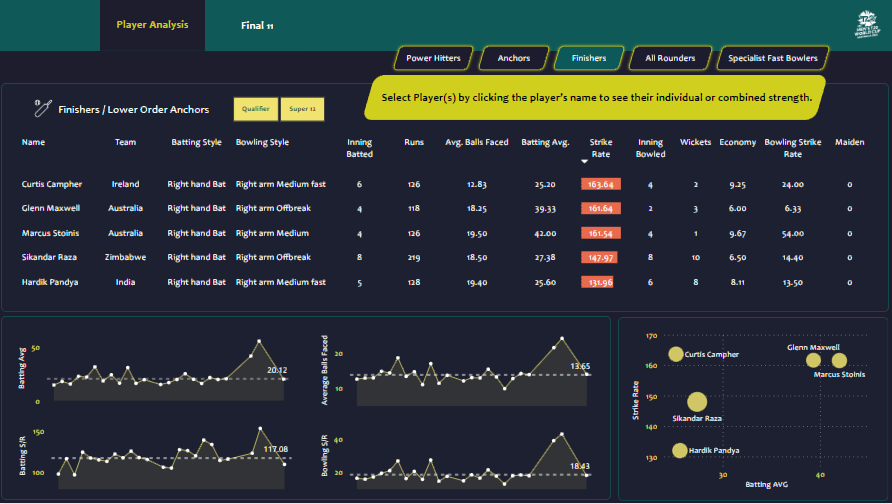

Layout of this report page (visuals, bound fields, positions):
{"tool":"powerbi","page":{"name":"New All Rounder / Lower Middle Order","canvas":[1280,720],"ordinal":3},"visuals":[{"type":"shape","box":[0,73.7,1280.2,646.3],"z":0},{"type":"shape","box":[886.8,454.5,386.4,262.7],"z":1000},{"type":"scatterChart","fields":{"Category":["player_profile.name"],"Size":["key measures.Total Runs"],"X":["key measures.Bowling Strike Rate"],"Y":["key measures.Bowling Economy"]},"box":[901.4,465.7,355.7,240],"z":2000},{"type":"image","box":[25,139,44.5,36.1],"z":3000},{"type":"shape","box":[5.7,120,1268.6,327.1],"z":4000},{"type":"tableEx","fields":{"Values":["player_profile.name","player_profile.team","player_profile.batting_style","player_profile.bowling_style","key measures.Total Inning Batted","key measures.Total Runs","key measures.Batting Avg","key measures.Strike Rate","key measures.Total Inning Bowled","key measures.Balls Bowled","key measures.Wickets","key measures.Bowling Economy"]},"box":[23.6,182.1,1234.3,250.2],"z":5000},{"type":"shape","box":[522.1,108.6,665.7,64.3],"z":6000},{"type":"card","fields":{"Values":["key measures.Strike Rate"]},"box":[854.9,106.3,120,64.3],"z":7000},{"type":"card","fields":{"Values":["key measures.Boundary %"]},"box":[1042.1,106.3,110,64.3],"z":8000},{"type":"card","fields":{"Values":["key measures.Average Balls Faced"]},"box":[927.8,106.3,155.7,65.7],"z":9000},{"type":"card","fields":{"Values":["key measures.Batting Avg"]},"box":[774.9,106.3,118.6,64.3],"z":10000},{"type":"slicer","fields":{"Values":["match_summary.stage"]},"box":[311.4,132.9,181.4,48.6],"z":11000},{"type":"shape","title":"scasfas","box":[65.4,132.5,231.5,48.7],"z":12000},{"type":"shape","box":[562.1,120,187.1,41.4],"z":13000},{"type":"shape","box":[5.6,453.1,871.5,262.7],"z":14000},{"type":"actionButton","box":[562.1,62.5,124.3,42.9],"z":15000},{"type":"actionButton","box":[682.4,62.9,111.4,42.9],"z":16000},{"type":"actionButton","box":[789.9,62.9,111.4,42.9],"z":17000},{"type":"actionButton","box":[897.4,62.9,130,42.9],"z":18000},{"type":"actionButton","box":[1023.5,62.9,171.4,42.9],"z":19000},{"type":"areaChart","fields":{"Y":["key measures.Batting Avg"],"Category":["match_summary.Date.Variation.Date Hierarchy.Year","match_summary.Date.Variation.Date Hierarchy.Quarter","match_summary.Date.Variation.Date Hierarchy.Month","match_summary.Date.Variation.Date Hierarchy.Day"]},"box":[23.6,467,400.3,119.5],"z":20000},{"type":"areaChart","fields":{"Category":["match_summary.Date.Variation.Date Hierarchy.Year","match_summary.Date.Variation.Date Hierarchy.Quarter","match_summary.Date.Variation.Date Hierarchy.Month","match_summary.Date.Variation.Date Hierarchy.Day"],"Y":["key measures.Bowling Economy"]},"box":[457.3,465.6,400.3,120.9],"z":21000},{"type":"areaChart","fields":{"Y":["key measures.Strike Rate"],"Category":["match_summary.Date.Variation.Date Hierarchy.Year","match_summary.Date.Variation.Date Hierarchy.Quarter","match_summary.Date.Variation.Date Hierarchy.Month","match_summary.Date.Variation.Date Hierarchy.Day"]},"box":[25,592.1,400,114],"z":22000},{"type":"areaChart","fields":{"Category":["match_summary.Date.Variation.Date Hierarchy.Year","match_summary.Date.Variation.Date Hierarchy.Quarter","match_summary.Date.Variation.Date Hierarchy.Month","match_summary.Date.Variation.Date Hierarchy.Day"],"Y":["key measures.Bowling Strike Rate"]},"box":[457.3,592.1,400,114],"z":23000},{"type":"actionButton","box":[147.3,0,150.1,73.7],"z":24000},{"type":"actionButton","box":[297.5,1.4,150,73],"z":25000},{"type":"shape","box":[493.4,119.5,728.3,40.3],"z":26000},{"type":"image","box":[1220.4,5.6,47.3,59.8],"z":27000}]}

Visuals, with their boxes in screenshot pixels (x1, y1, x2, y2), scaled from the page's 1280x720 canvas onto the 892x504 screenshot:
shape: x1=0, y1=52, x2=891, y2=503
shape: x1=618, y1=318, x2=887, y2=502
scatterChart - player_profile.name x key measures.Total Runs: x1=628, y1=326, x2=876, y2=494
image: x1=17, y1=97, x2=48, y2=123
shape: x1=4, y1=84, x2=888, y2=313
tableEx - player_profile.name x player_profile.team: x1=16, y1=127, x2=877, y2=303
shape: x1=364, y1=76, x2=828, y2=121
card - key measures.Strike Rate: x1=596, y1=74, x2=679, y2=119
card - key measures.Boundary %: x1=726, y1=74, x2=803, y2=119
card - key measures.Average Balls Faced: x1=647, y1=74, x2=755, y2=120
card - key measures.Batting Avg: x1=540, y1=74, x2=623, y2=119
slicer - match_summary.stage: x1=217, y1=93, x2=343, y2=127
"scasfas" shape: x1=46, y1=93, x2=207, y2=127
shape: x1=392, y1=84, x2=522, y2=113
shape: x1=4, y1=317, x2=611, y2=501
actionButton: x1=392, y1=44, x2=478, y2=74
actionButton: x1=476, y1=44, x2=553, y2=74
actionButton: x1=550, y1=44, x2=628, y2=74
actionButton: x1=625, y1=44, x2=716, y2=74
actionButton: x1=713, y1=44, x2=833, y2=74
areaChart - key measures.Batting Avg x match_summary.Date.Variation.Date Hierarchy.Year: x1=16, y1=327, x2=295, y2=411
areaChart - match_summary.Date.Variation.Date Hierarchy.Year x match_summary.Date.Variation.Date Hierarchy.Quarter: x1=319, y1=326, x2=598, y2=411
areaChart - key measures.Strike Rate x match_summary.Date.Variation.Date Hierarchy.Year: x1=17, y1=414, x2=296, y2=494
areaChart - match_summary.Date.Variation.Date Hierarchy.Year x match_summary.Date.Variation.Date Hierarchy.Quarter: x1=319, y1=414, x2=597, y2=494
actionButton: x1=103, y1=0, x2=207, y2=52
actionButton: x1=207, y1=1, x2=312, y2=52
shape: x1=344, y1=84, x2=851, y2=112
image: x1=850, y1=4, x2=883, y2=46
